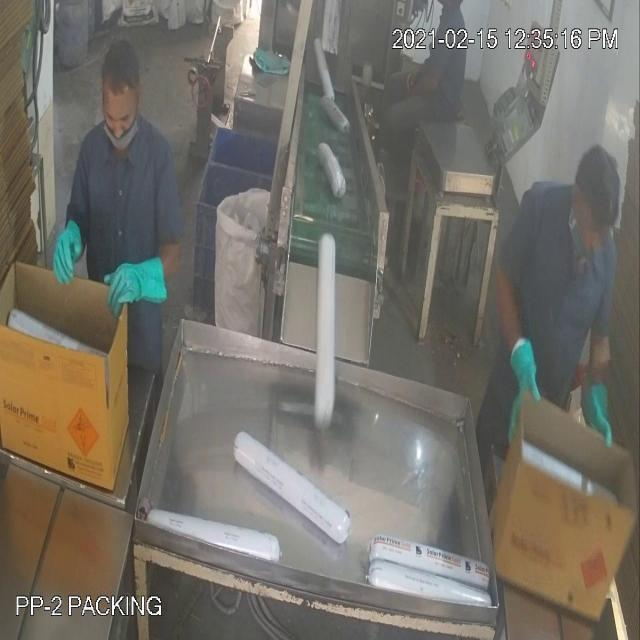Gloves: (41, 64, 532, 376)
